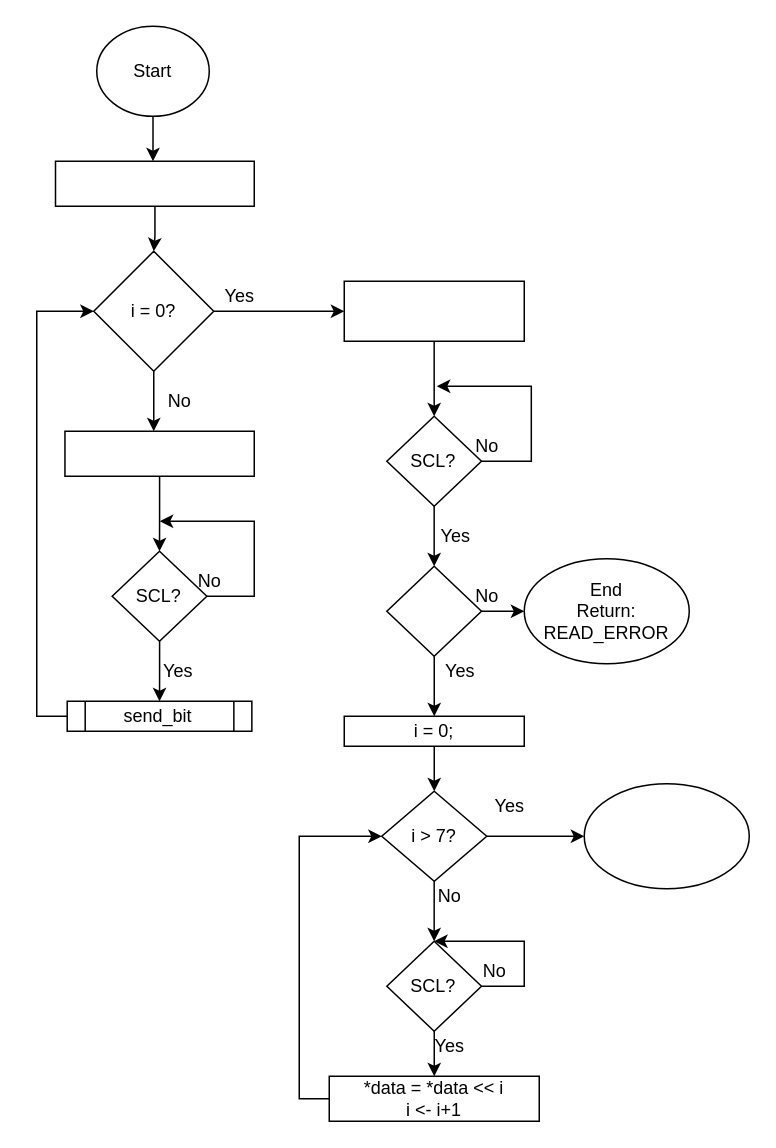
The diagram is 776 pixels wide and 1148 high, and some of its shapes have lost their labels. The centre of each missing label's shape, as x and y in pixels:
"ACK?" goes at (x=433, y=610).
"bit = address >> 7 - i i <- i - 1" goes at (x=158, y=453).
"bit = READ_BIT" goes at (x=433, y=310).
"End Return: READ_CORRECT" goes at (x=666, y=835).
"i <- 7" goes at (x=154, y=183).
